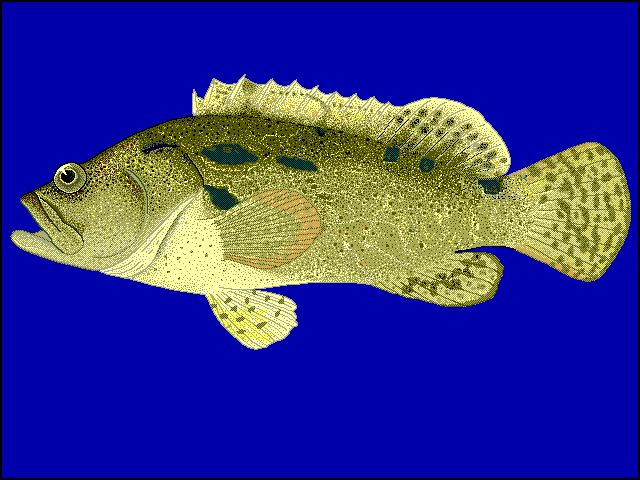fish: (9, 73, 632, 350)
